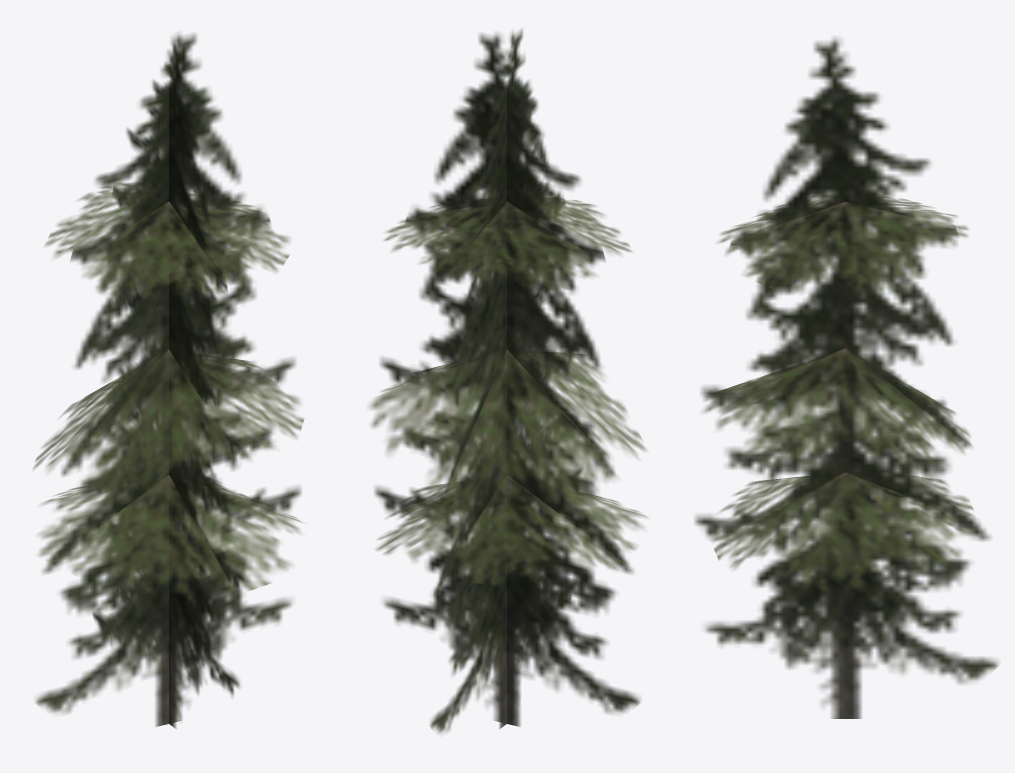
The model's file is forest_tree_2.glb.
3 views of the same model, side by side, from view 1: azimuth 30°, elevation 25°; view 2: azimuth 150°, elevation 25°; view 3: azimuth 270°, elevation 25° (orthographic).
Parts seen in each view (by area): view 1: Background_Tree_Atlas.002_Background_Tree_Atlas_0; view 2: Background_Tree_Atlas.002_Background_Tree_Atlas_0; view 3: Background_Tree_Atlas.002_Background_Tree_Atlas_0.
Part boxes in pixels (x1,y1,x2,y2): Background_Tree_Atlas.002_Background_Tree_Atlas_0: [33, 33, 303, 728]; Background_Tree_Atlas.002_Background_Tree_Atlas_0: [369, 29, 647, 733]; Background_Tree_Atlas.002_Background_Tree_Atlas_0: [694, 37, 998, 718].
Size of the model in its own units: 3.72 by 9.11 by 3.72.
Materials: 1 (1 with a texture image).
